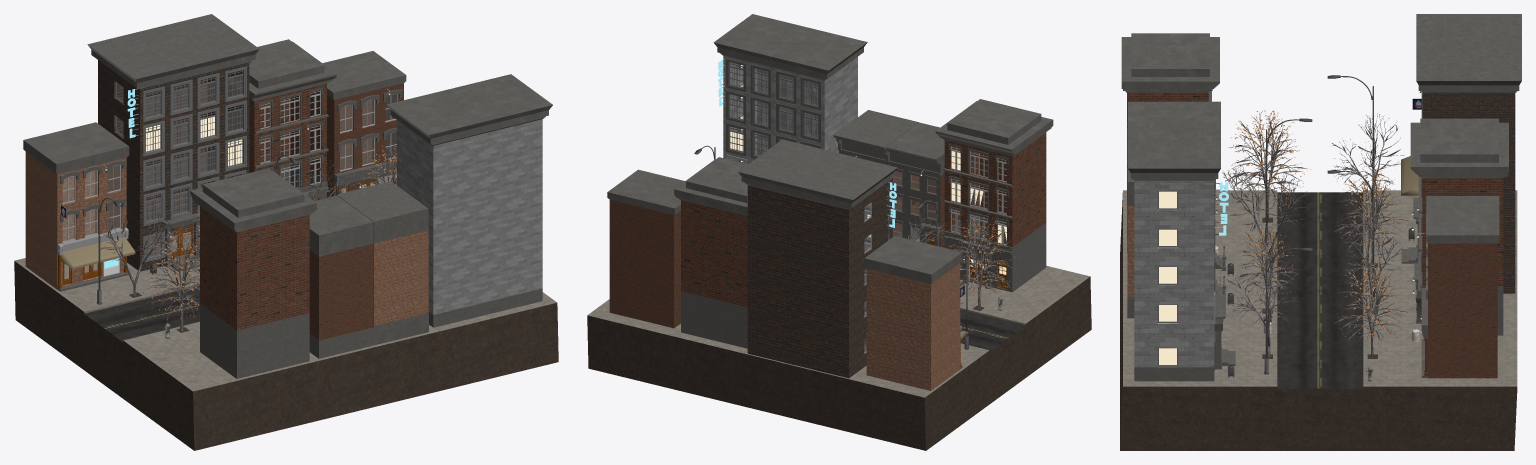
The model's file is strada.glb.
3 views of the same model, side by side, from view 1: azimuth 30°, elevation 25°; view 2: azimuth 150°, elevation 25°; view 3: azimuth 270°, elevation 25° (orthographic). The views are drawn at different scales.
Visible parts, largest first — view 1: Cube, Plane.001, Cube.177, Cube.245, Cube.105, Cube.058, Cube.106, Cube.325, Cube.001, tree, Cube.159, Cube.200 (+4 smaller); view 2: Cube, Plane.001, Cube.105, Cube.245, Cube.058, Cube.325, Cube.177, Cube.106, Cube.001, tree, Cube.159, Cube.129 (+2 smaller); view 3: Plane.001, Cube, Cube.177, tree, Cube.325, Cube.105, Cube.245, leaves, Cube.151, Cube.129, Cube.106, Cube.058 (+1 smaller).
Part boxes in pixels (left/top/right/bottom): Cube: left=23, top=14, right=552, bottom=378; Plane.001: left=14, top=182, right=558, bottom=450; Cube.177: left=397, top=119, right=542, bottom=314; Cube.245: left=200, top=84, right=326, bottom=330; Cube.105: left=98, top=60, right=249, bottom=271; Cube.058: left=25, top=152, right=428, bottom=325; Cube.106: left=143, top=66, right=246, bottom=262; Cube.325: left=327, top=83, right=403, bottom=197; Cube.001: left=57, top=76, right=389, bottom=255; tree: left=98, top=145, right=396, bottom=331; Cube.159: left=62, top=90, right=398, bottom=242; Cube.200: left=340, top=94, right=396, bottom=192; Cube: left=607, top=14, right=1053, bottom=368; Plane.001: left=587, top=238, right=1091, bottom=450; Cube.105: left=747, top=182, right=887, bottom=378; Cube.245: left=681, top=132, right=1046, bottom=306; Cube.058: left=866, top=164, right=960, bottom=390; Cube.325: left=609, top=199, right=680, bottom=328; Cube.177: left=723, top=56, right=857, bottom=164; Cube.106: left=729, top=62, right=870, bottom=315; Cube.001: left=721, top=59, right=1005, bottom=353; tree: left=736, top=160, right=1010, bottom=309; Cube.159: left=951, top=146, right=1006, bottom=245; Cube.129: left=730, top=65, right=1006, bottom=274; Plane.001: left=1120, top=190, right=1517, bottom=450; Cube: left=1121, top=14, right=1521, bottom=381; Cube.177: left=1134, top=180, right=1214, bottom=367; tree: left=1219, top=112, right=1409, bottom=358; Cube.325: left=1428, top=243, right=1497, bottom=378; Cube.105: left=1422, top=93, right=1515, bottom=293; Cube.245: left=1127, top=92, right=1503, bottom=285; leaves: left=1228, top=110, right=1405, bottom=347; Cube.151: left=1227, top=75, right=1414, bottom=377; Cube.129: left=1159, top=191, right=1176, bottom=364; Cube.106: left=1157, top=92, right=1422, bottom=366; Cube.058: left=1127, top=206, right=1134, bottom=297.
Size of the model in its own units: 40 by 26.75 by 34.64.
39 materials, 23 textured.
